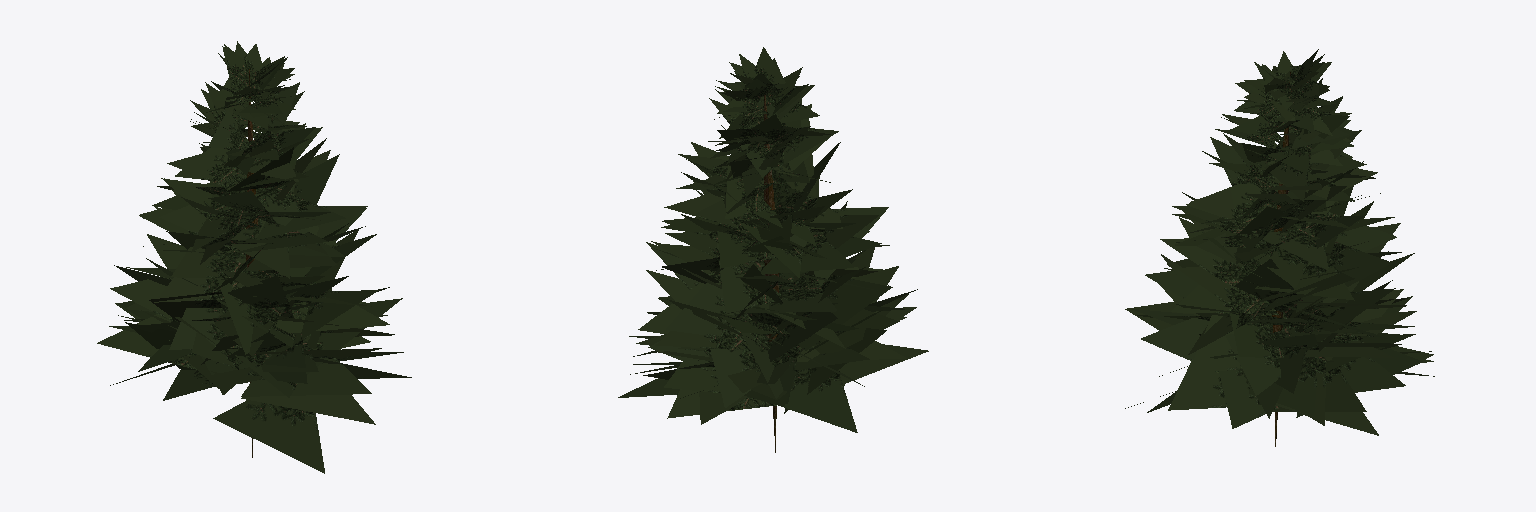
3 views of the same model, side by side, from view 1: azimuth 30°, elevation 25°; view 2: azimuth 150°, elevation 25°; view 3: azimuth 270°, elevation 25° (orthographic).
Bounding box in the file's own units: 6.92 × 10.26 × 7.29.
Materials: 2 (2 with a texture image).